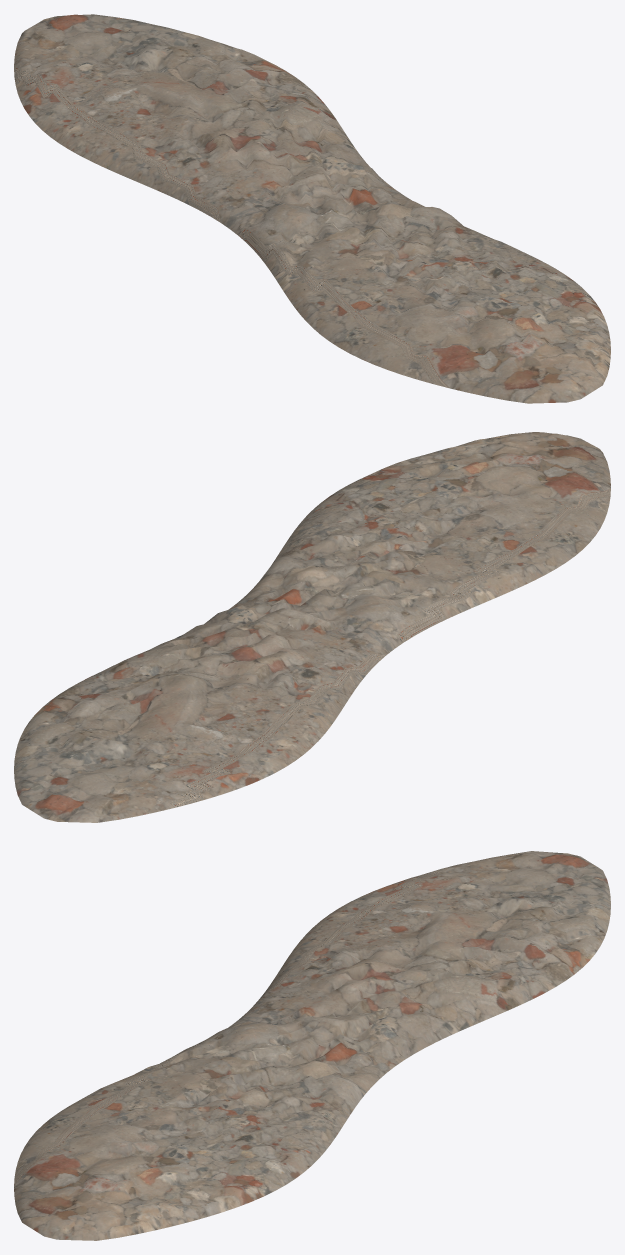
File: scan-rubble-a.fbx
3 views of the same model, one above another, from view 1: azimuth 30°, elevation 25°; view 2: azimuth 150°, elevation 25°; view 3: azimuth 330°, elevation 25° (orthographic).
Parts seen in each view (by area): view 1: scan-rubble-a; view 2: scan-rubble-a; view 3: scan-rubble-a.
Part boxes in pixels (x1,y1,x2,y2): scan-rubble-a: (14, 14, 610, 403); scan-rubble-a: (14, 432, 610, 822); scan-rubble-a: (14, 851, 610, 1240).
Size of the model in its own units: 47.1 by 4.98 by 174.
1 material, 1 textured.
